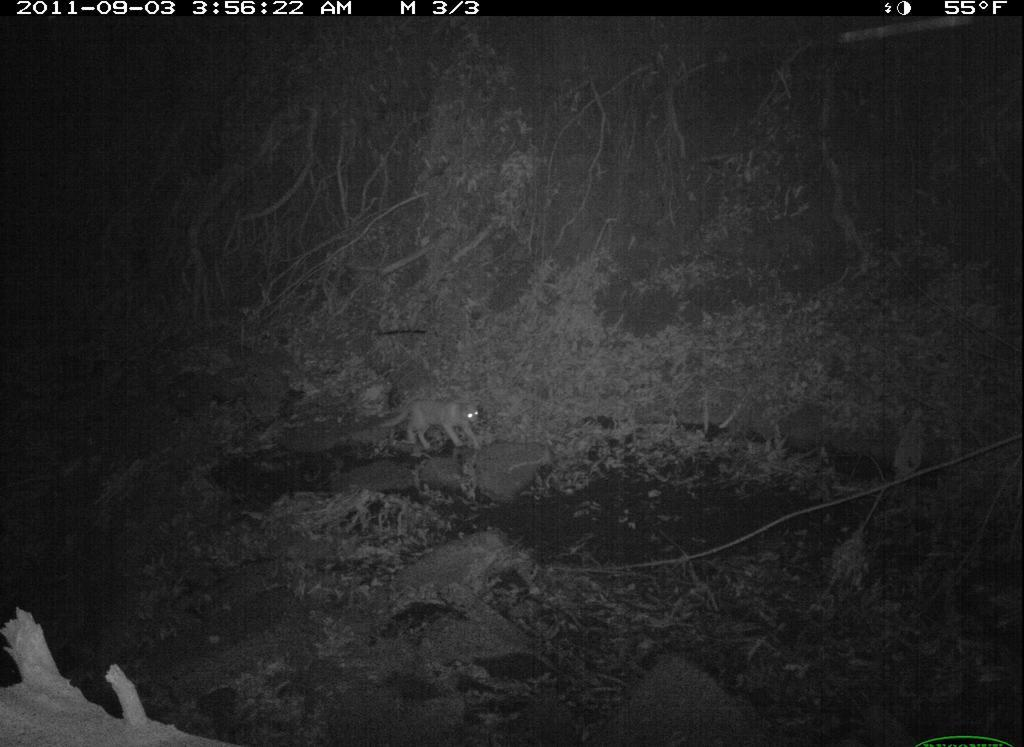cat: (376, 391, 495, 450)
